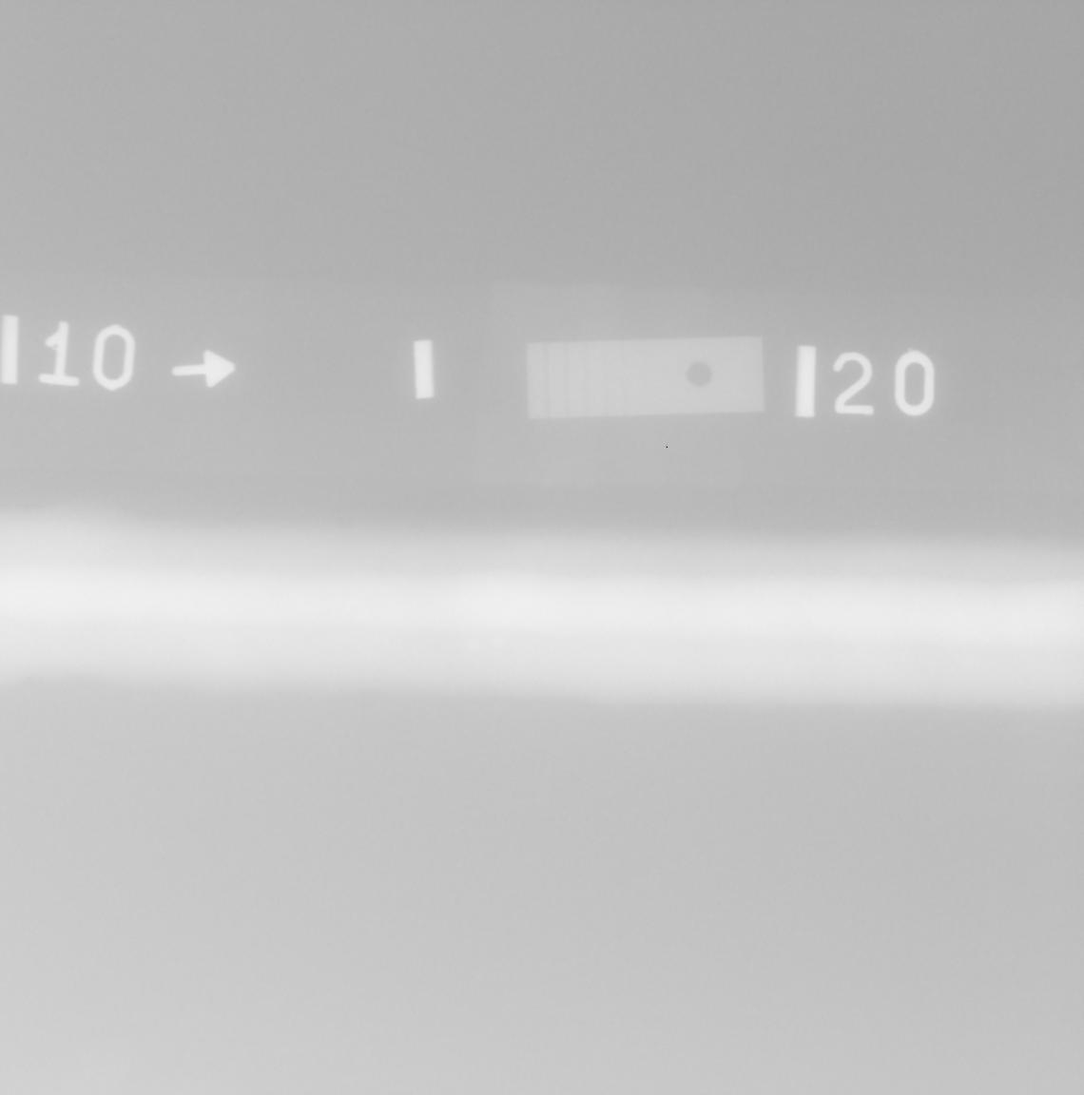Reference Standard 1: (525, 335, 764, 418)
